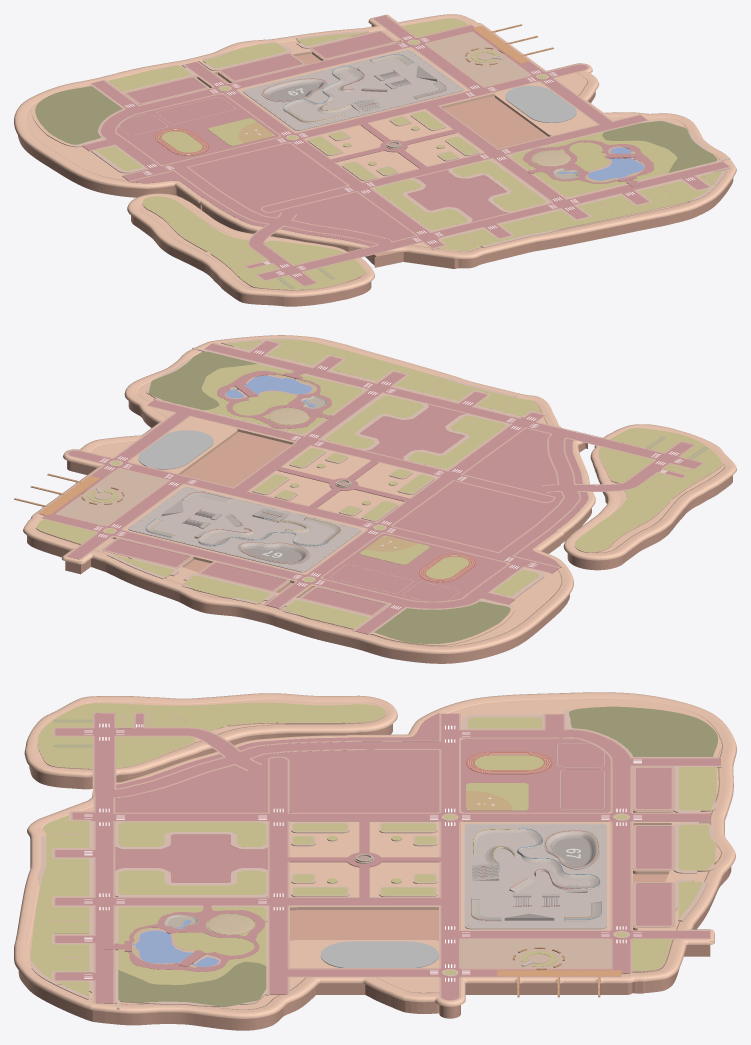
The model's file is ada_calisma.glb.
3 renders of one model, top to bottom at view 1: azimuth 30°, elevation 25°; view 2: azimuth 150°, elevation 25°; view 3: azimuth 270°, elevation 25°, orthographic. The views are drawn at different scales.
Parts seen in each view (by area): view 1: 5_YOL, 3_CIMEN, 5_PARSEL_ZEMIN, 4_ANA_KUMTABAN, 1_TABAN, 67F_ANA_ADA_ALT_KOPRU_KUM_OMUZ, 6_BORDUR, 5_KB_SPOR_ZEMIN, 67D_SKATEPARK_BASE, 3_CIMEN_KOYU, 7_KALDIRIM_TABANI, 67D_KIYI_KUM_OMUZ (+16 smaller); view 2: 5_YOL, 3_CIMEN, 5_PARSEL_ZEMIN, 4_ANA_KUMTABAN, 1_TABAN, 67F_ANA_ADA_ALT_KOPRU_KUM_OMUZ, 6_BORDUR, 5_KB_SPOR_ZEMIN, 67D_SKATEPARK_BASE, 3_CIMEN_KOYU, 7_KALDIRIM_TABANI, 67D_KIYI_KUM_OMUZ (+16 smaller); view 3: 5_YOL, 3_CIMEN, 5_PARSEL_ZEMIN, 4_ANA_KUMTABAN, 67F_ANA_ADA_ALT_KOPRU_KUM_OMUZ, 1_TABAN, 6_BORDUR, 5_KB_SPOR_ZEMIN, 67D_SKATEPARK_BASE, 3_CIMEN_KOYU, 7_KALDIRIM_TABANI, 67D_KIYI_KUM_OMUZ (+18 smaller).
Boxes of the visible parts, left/top/right/bottom form: 5_YOL: left=82, top=15, right=729, bottom=285; 3_CIMEN: left=96, top=32, right=722, bottom=289; 5_PARSEL_ZEMIN: left=129, top=143, right=508, bottom=246; 4_ANA_KUMTABAN: left=25, top=14, right=723, bottom=251; 1_TABAN: left=18, top=25, right=733, bottom=306; 67F_ANA_ADA_ALT_KOPRU_KUM_OMUZ: left=14, top=14, right=736, bottom=259; 6_BORDUR: left=82, top=15, right=730, bottom=286; 5_KB_SPOR_ZEMIN: left=116, top=32, right=393, bottom=164; 67D_SKATEPARK_BASE: left=242, top=50, right=463, bottom=130; 3_CIMEN_KOYU: left=35, top=86, right=717, bottom=172; 7_KALDIRIM_TABANI: left=72, top=30, right=730, bottom=249; 67D_KIYI_KUM_OMUZ: left=127, top=193, right=374, bottom=297; 5_YOL: left=39, top=341, right=701, bottom=634; 3_CIMEN: left=113, top=339, right=721, bottom=628; 5_PARSEL_ZEMIN: left=360, top=404, right=588, bottom=567; 4_ANA_KUMTABAN: left=36, top=340, right=580, bottom=646; 1_TABAN: left=27, top=401, right=732, bottom=663; 67F_ANA_ADA_ALT_KOPRU_KUM_OMUZ: left=23, top=335, right=595, bottom=653; 6_BORDUR: left=38, top=339, right=703, bottom=634; 5_KB_SPOR_ZEMIN: left=105, top=533, right=506, bottom=614; 67D_SKATEPARK_BASE: left=128, top=487, right=361, bottom=572; 3_CIMEN_KOYU: left=148, top=351, right=510, bottom=643; 7_KALDIRIM_TABANI: left=107, top=337, right=545, bottom=634; 67D_KIYI_KUM_OMUZ: left=563, top=424, right=736, bottom=560; 5_YOL: left=55, top=713, right=720, bottom=1003; 3_CIMEN: left=30, top=702, right=716, bottom=996; 5_PARSEL_ZEMIN: left=115, top=713, right=439, bottom=882; 4_ANA_KUMTABAN: left=29, top=698, right=721, bottom=1009; 67F_ANA_ADA_ALT_KOPRU_KUM_OMUZ: left=14, top=692, right=736, bottom=1018; 1_TABAN: left=18, top=724, right=731, bottom=1030; 6_BORDUR: left=53, top=712, right=720, bottom=1002; 5_KB_SPOR_ZEMIN: left=461, top=738, right=671, bottom=925; 67D_SKATEPARK_BASE: left=464, top=823, right=606, bottom=929; 3_CIMEN_KOYU: left=118, top=706, right=717, bottom=1006; 7_KALDIRIM_TABANI: left=31, top=710, right=721, bottom=1009; 67D_KIYI_KUM_OMUZ: left=24, top=693, right=397, bottom=777.
Size of the model in its own units: 2.53 by 0.0735 by 2.39.
56 materials, 1 textured.
